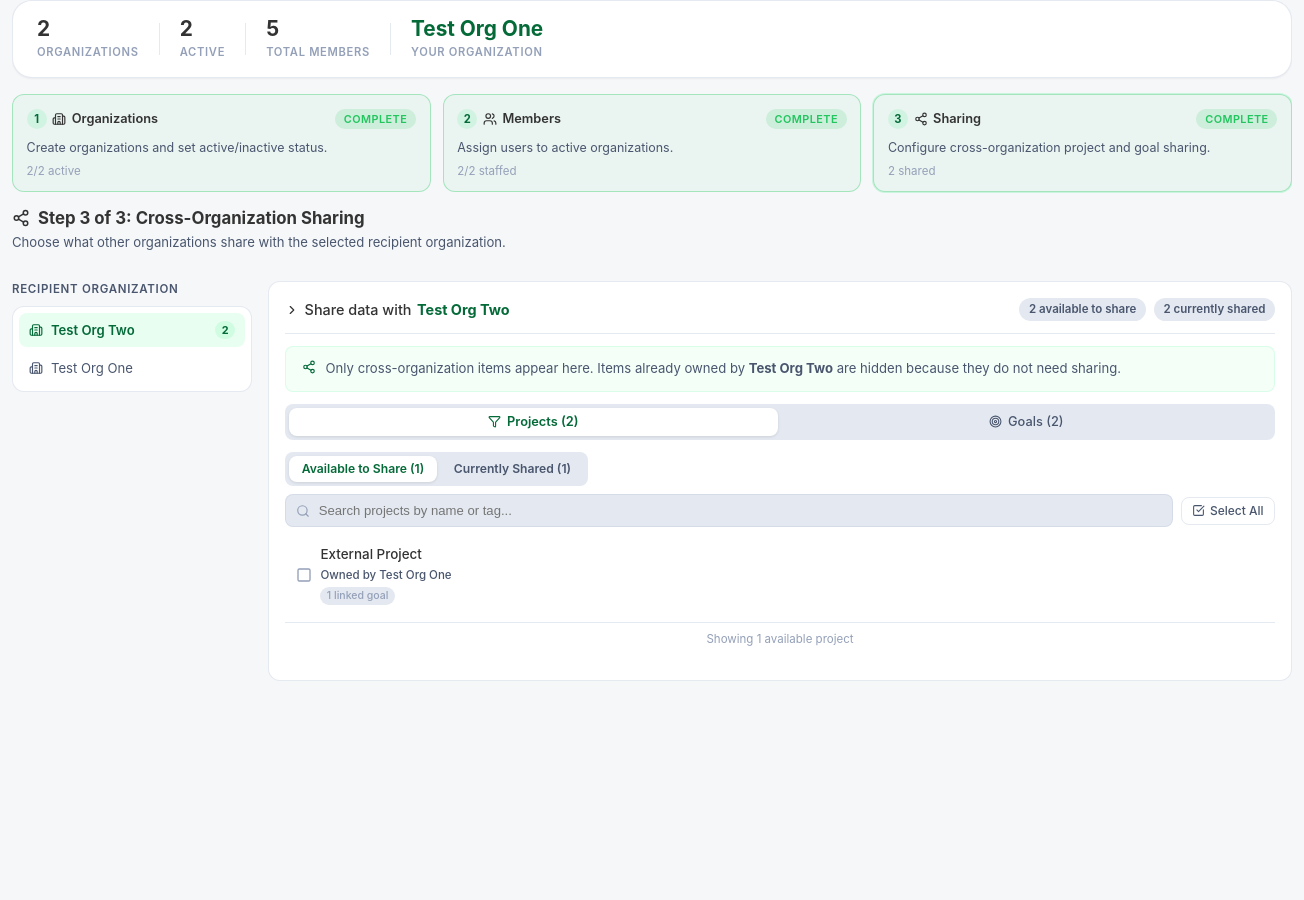
it: OrganizationManager sharing step › shows only actionable cross-org items and separates available from shared views
This screenshot has width=1304, height=900.
Expected: the text "External Project" is shown, [320,546,422,562]
Expected: the text "Shared Project" is not shown
Click the button "Currently Shared (1)": x=512, y=469 [441,456,584,482]
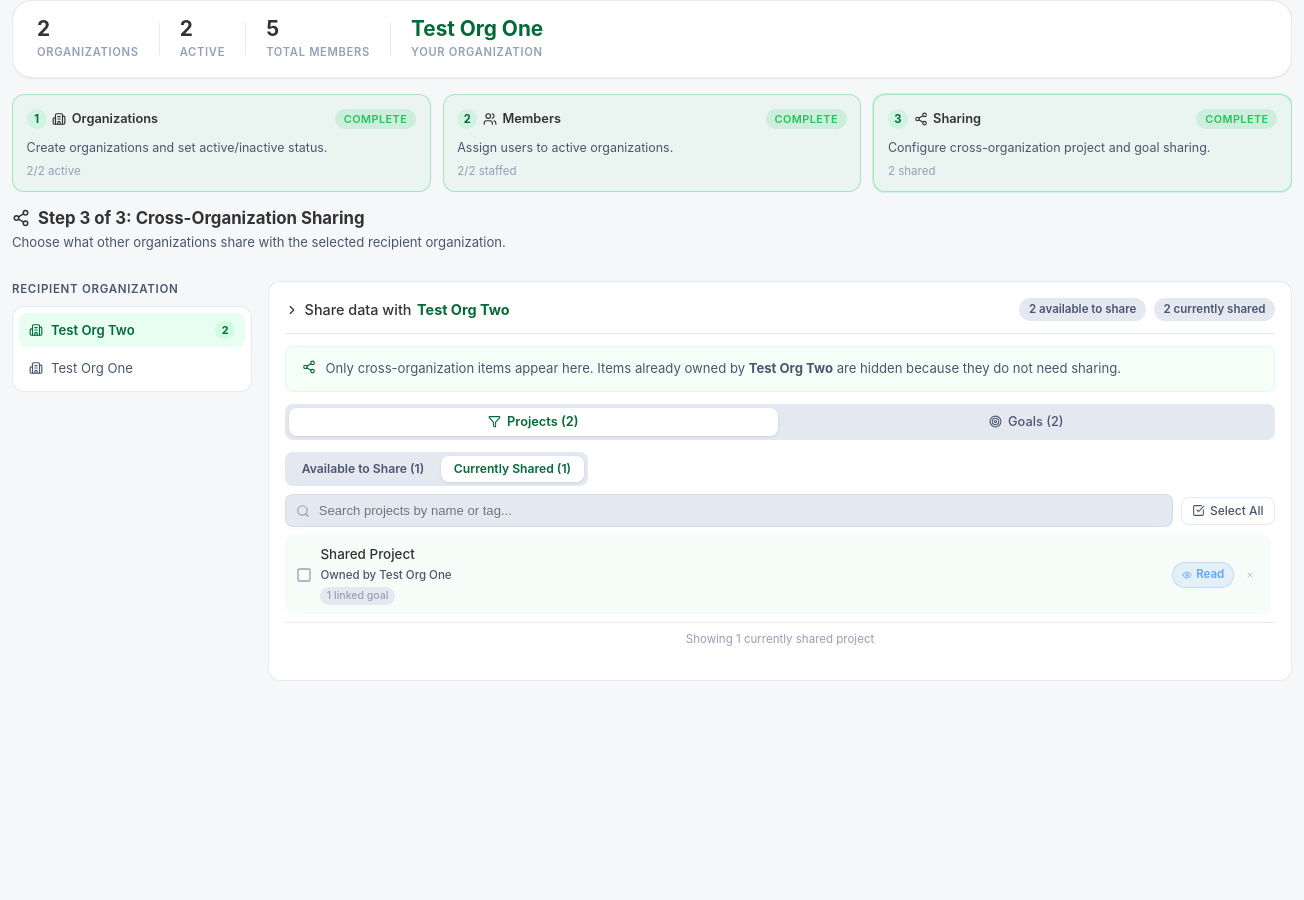
Result: the text "Shared Project" is shown at [320,546,415,562]
Result: the text "External Project" is gone
Click the button "Goals (2)": x=1026, y=422 [782,408,1271,436]
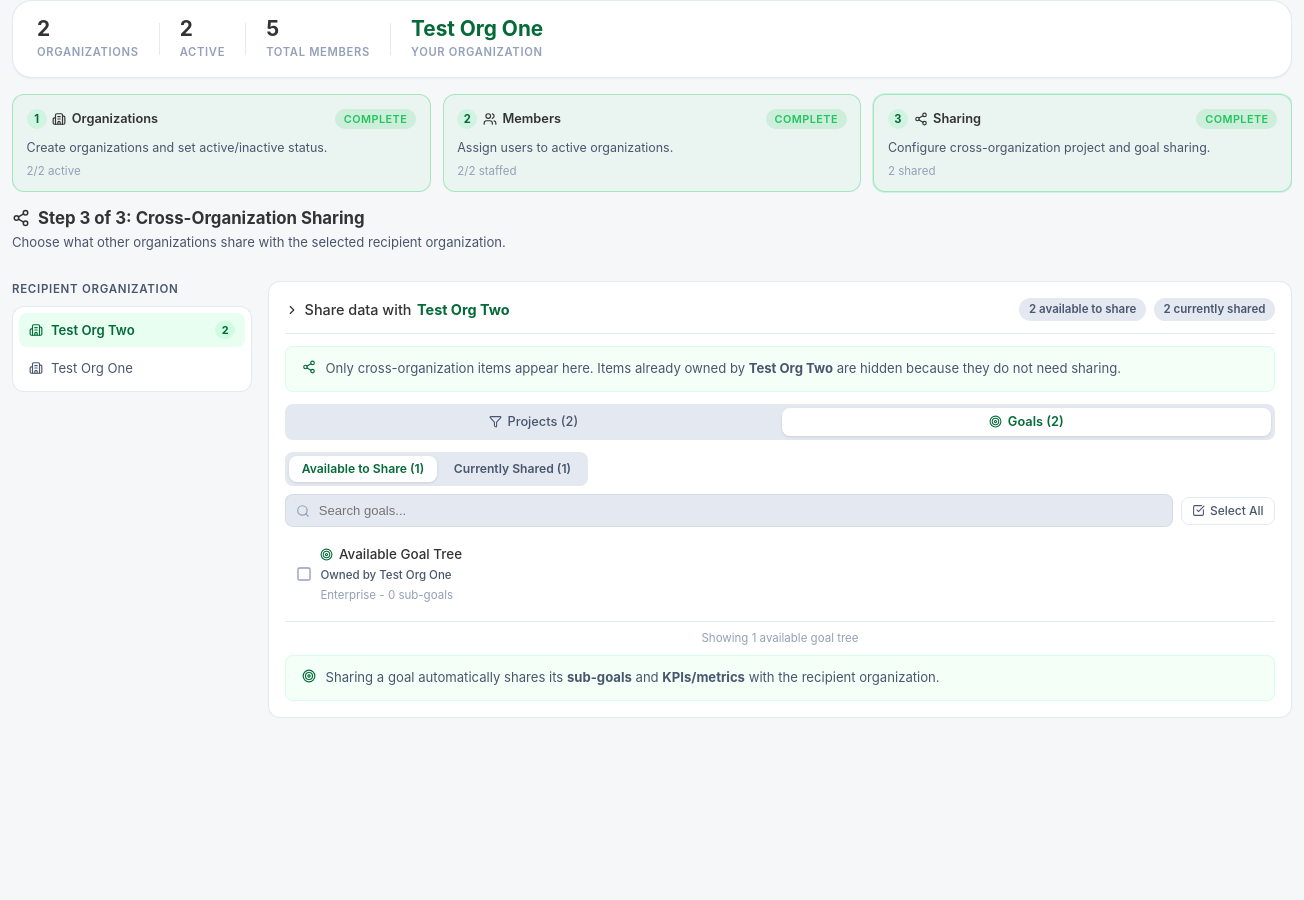
Expected: the text "Shared Goal Tree" is not shown
Result: the text "Available Goal Tree" is shown at [320,546,462,562]
Click the button "Currently Shared (1)": x=512, y=469 [441,456,584,482]
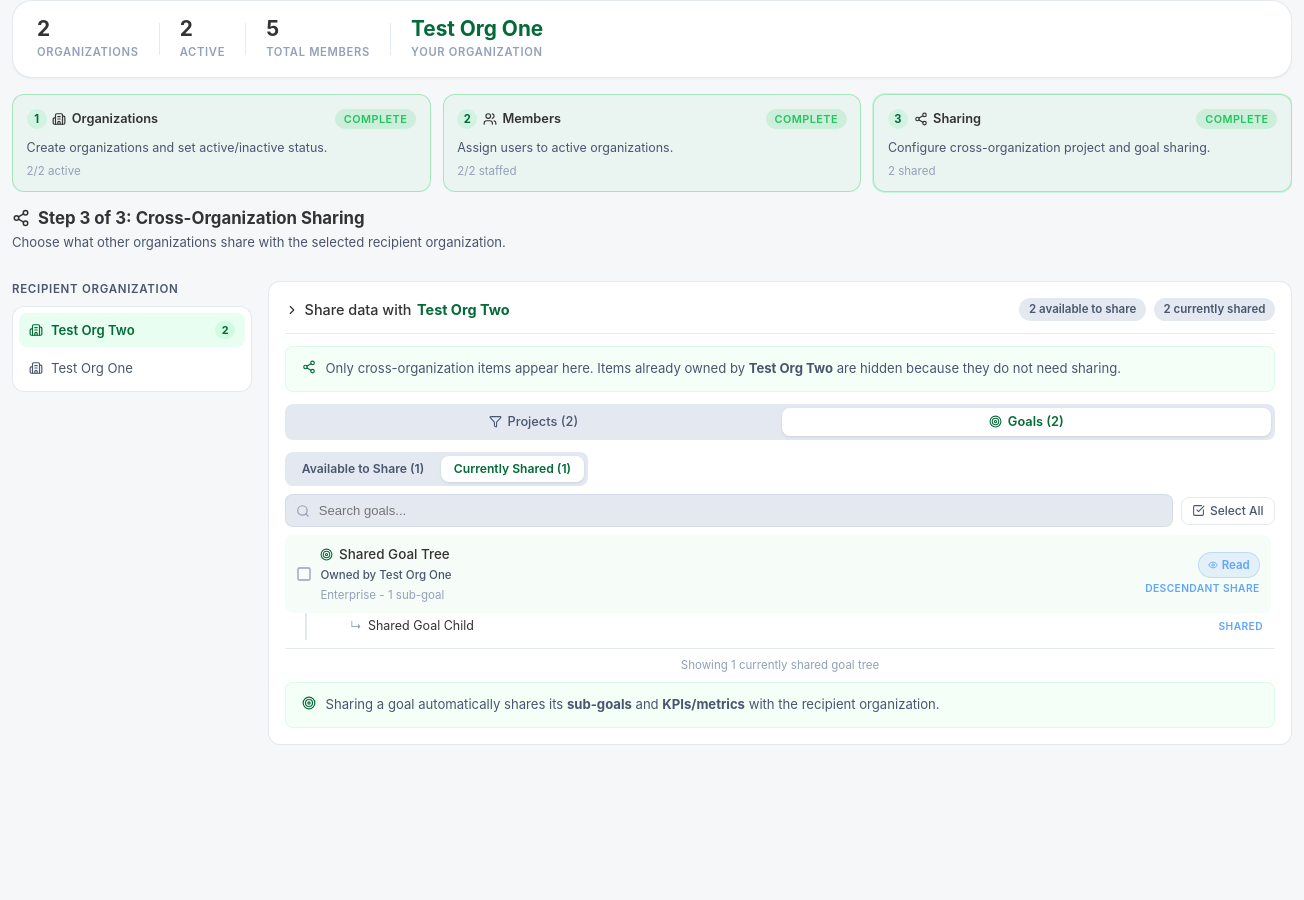
Result: the text "Shared Goal Tree" is shown at [320,546,450,562]
Result: the text "descendant share" is shown at [1145,580,1260,596]
Result: the text "Available Goal Tree" is gone
